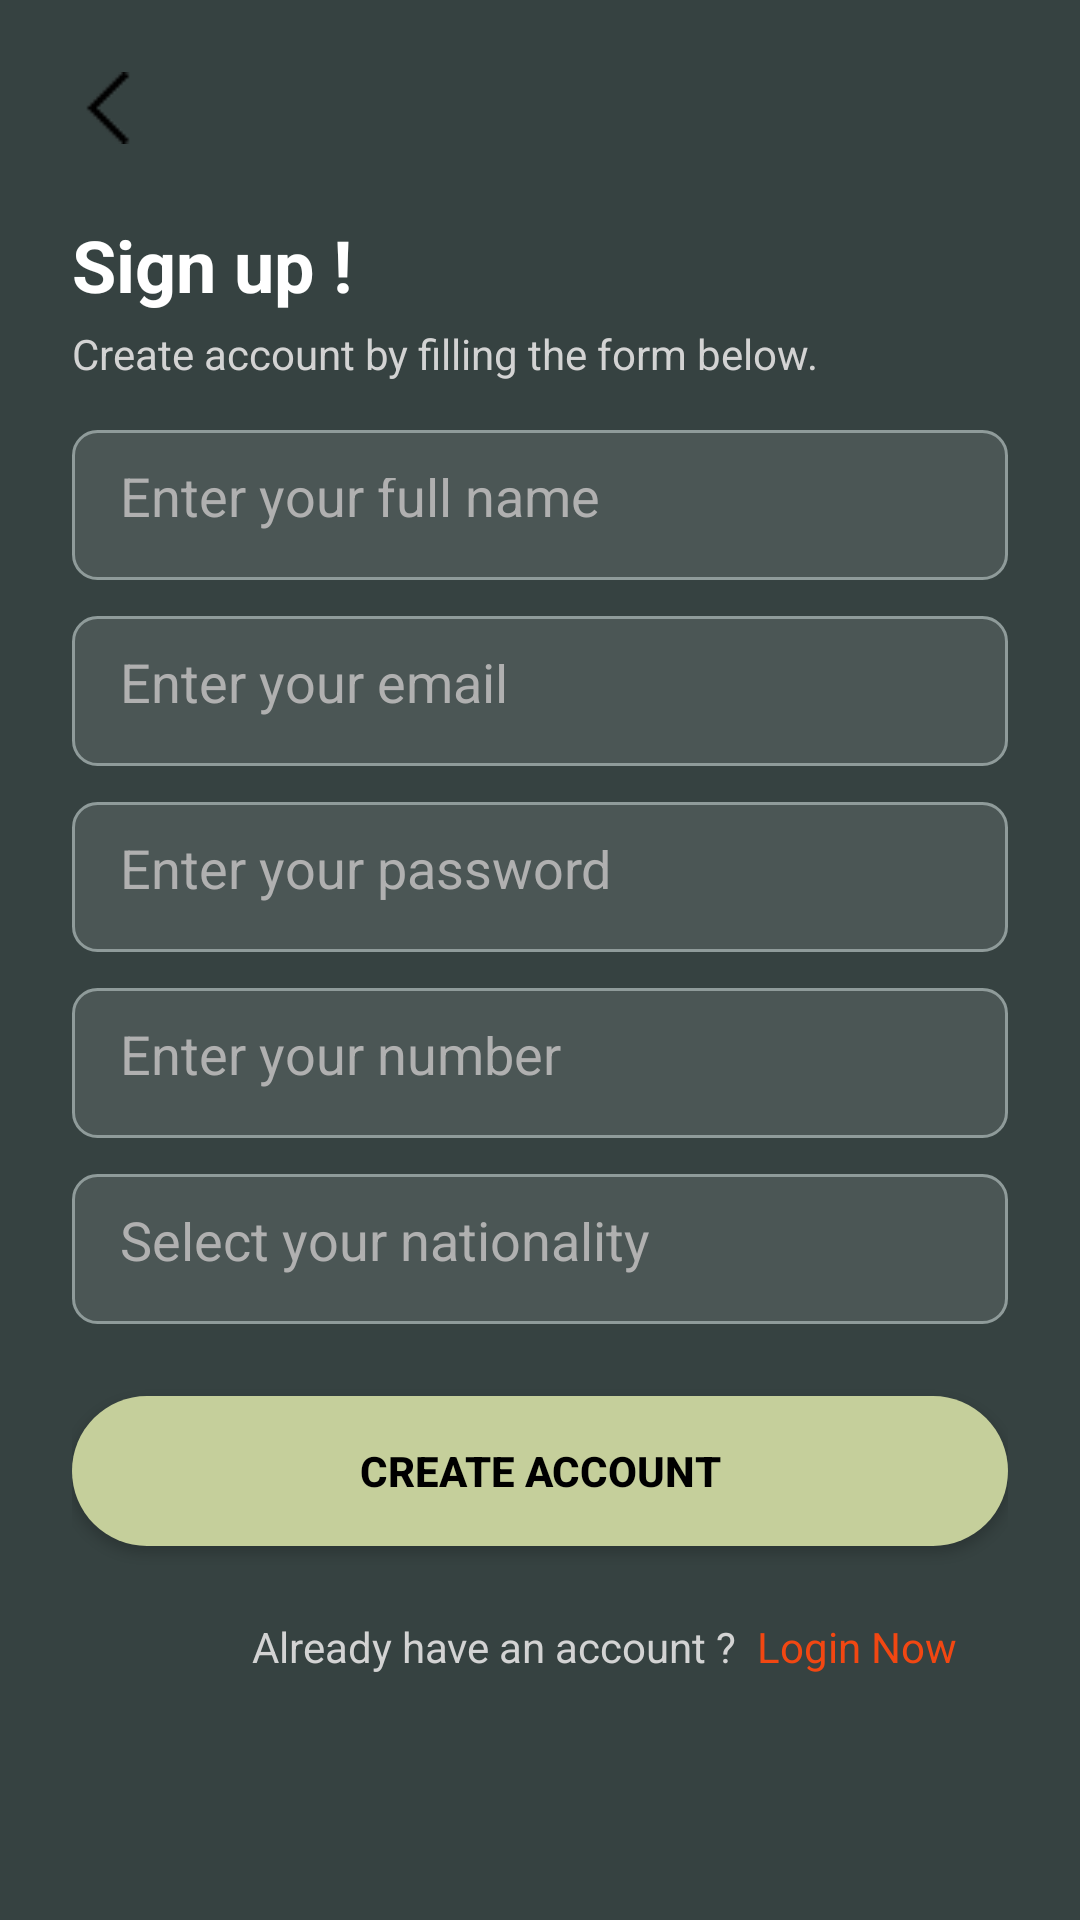

Icons on this 1080*1920 Android screen, each with its box as {"left": x1, "top": y1, "right": x2, "bottom": y2}:
Back: {"left": 87, "top": 72, "right": 129, "bottom": 144}
